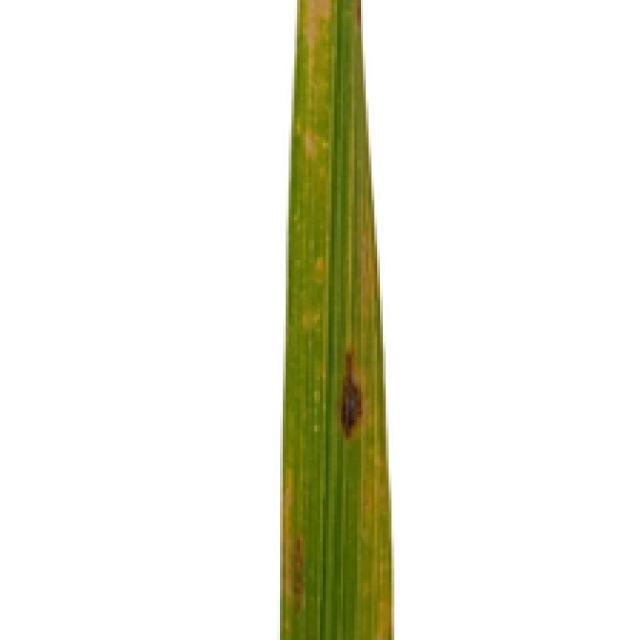Rice___Rice_Blast: (279, 0, 394, 637)
